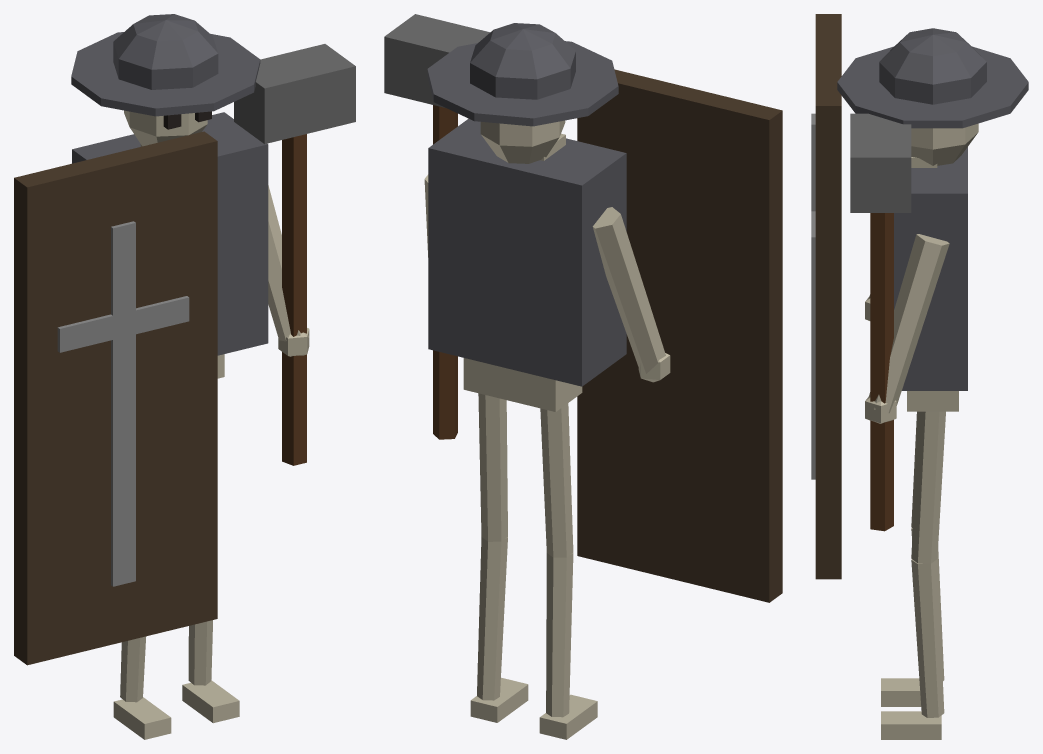
File: gruftwaechter.glb
3 renders of one model, left to right at view 1: azimuth 30°, elevation 25°; view 2: azimuth 150°, elevation 25°; view 3: azimuth 270°, elevation 25°, orthographic.
Bounding box in the file's own units: 1 × 1.9 × 0.55.
Materials: 1 (1 with a texture image).
